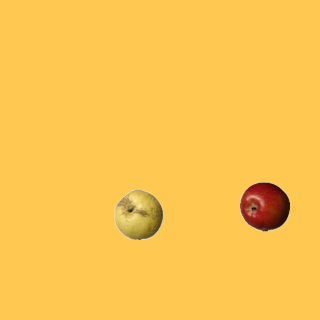Apple Braeburn: (239, 181, 289, 231)
Apple Golden 1: (113, 189, 163, 239)
